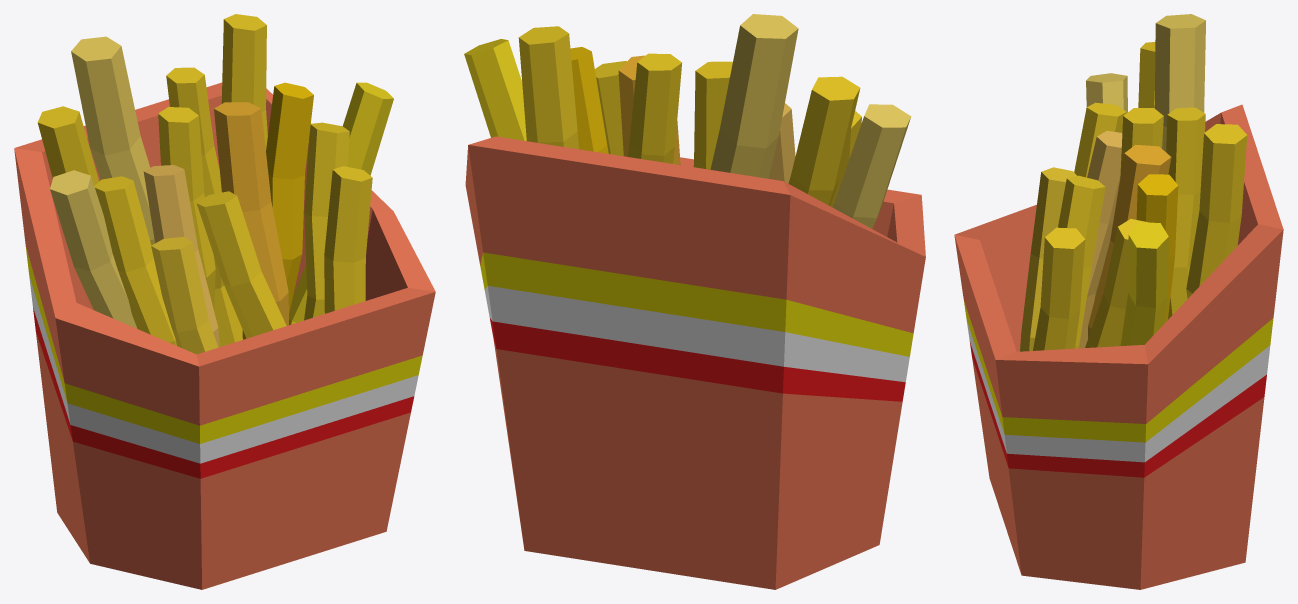
The model's file is model_fries.gltf.
3 views of the same model, side by side, from view 1: azimuth 30°, elevation 25°; view 2: azimuth 150°, elevation 25°; view 3: azimuth 270°, elevation 25° (orthographic). The views are drawn at different scales.
Parts seen in each view (by area): view 1: model_fries; view 2: model_fries; view 3: model_fries.
Part boxes in pixels (x1,y1,x2,y2): model_fries: [14, 14, 435, 589]; model_fries: [464, 14, 925, 589]; model_fries: [954, 14, 1283, 589].
Size of the model in its own units: 0.3558 by 0.4393 by 0.2853.
